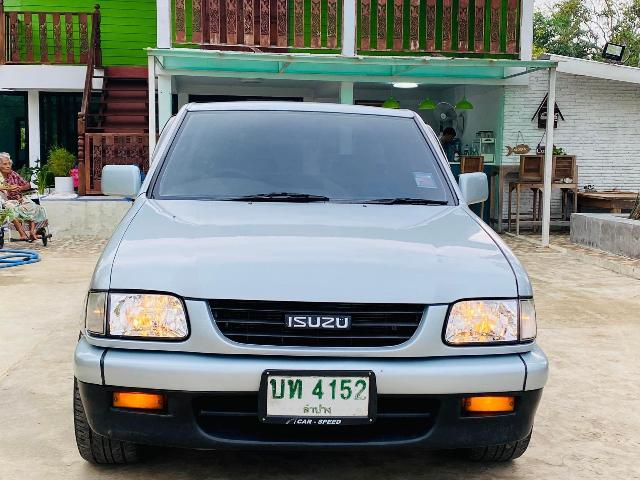pickup-truck: (67, 70, 554, 480)
